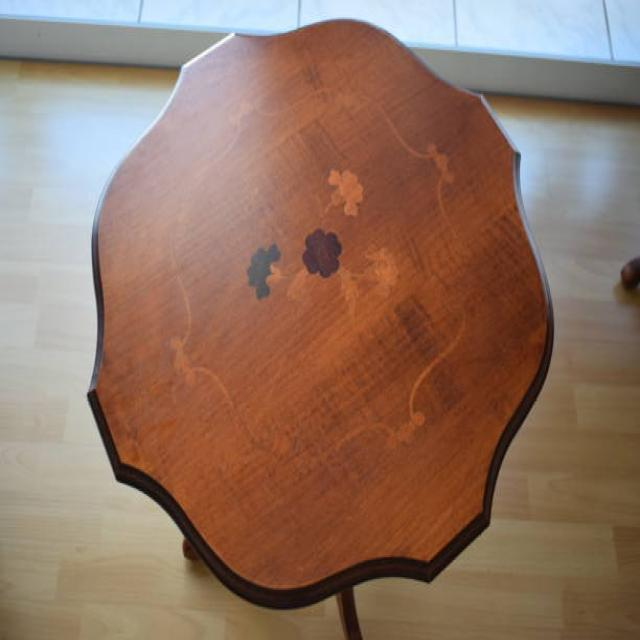table: (86, 16, 554, 638)
